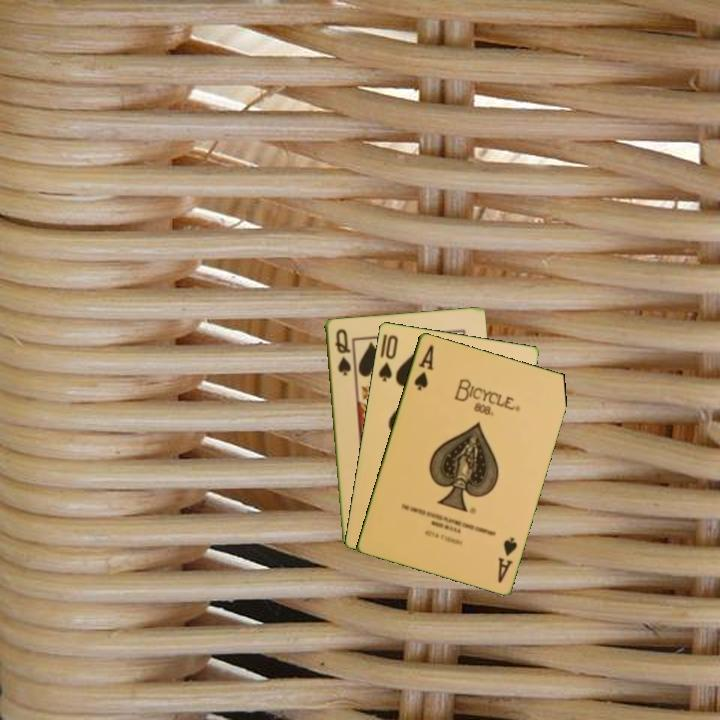10s: (375, 331, 401, 384)
As: (410, 341, 436, 393), (494, 533, 520, 585)
Qs: (331, 325, 354, 378)
